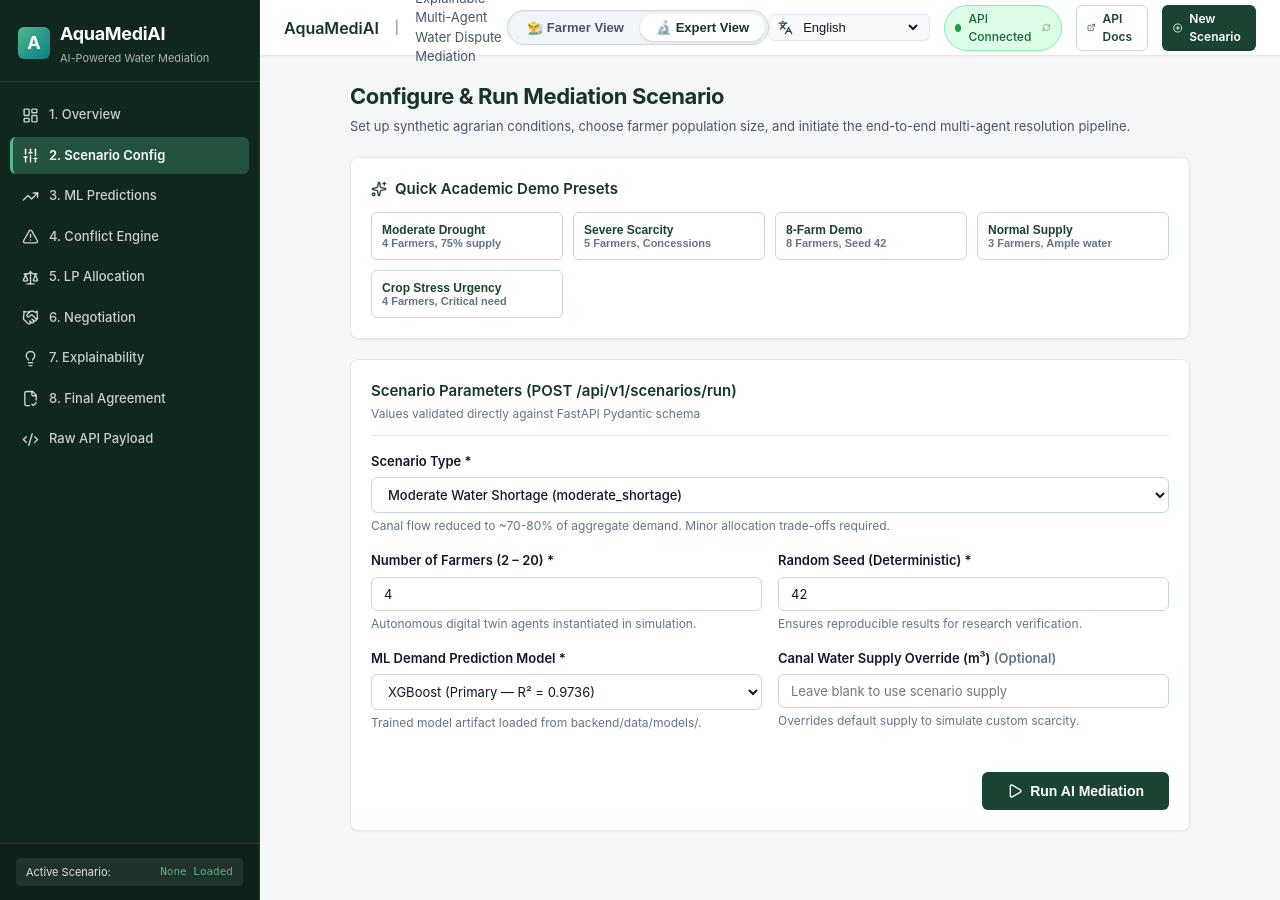
Test: AquaMediAI Frontend Application Flow › submits scenario form and populates dashboard state
Click the button "Run AI Mediation". click: coordinates (1076, 791)
box: [982, 772, 1169, 810]
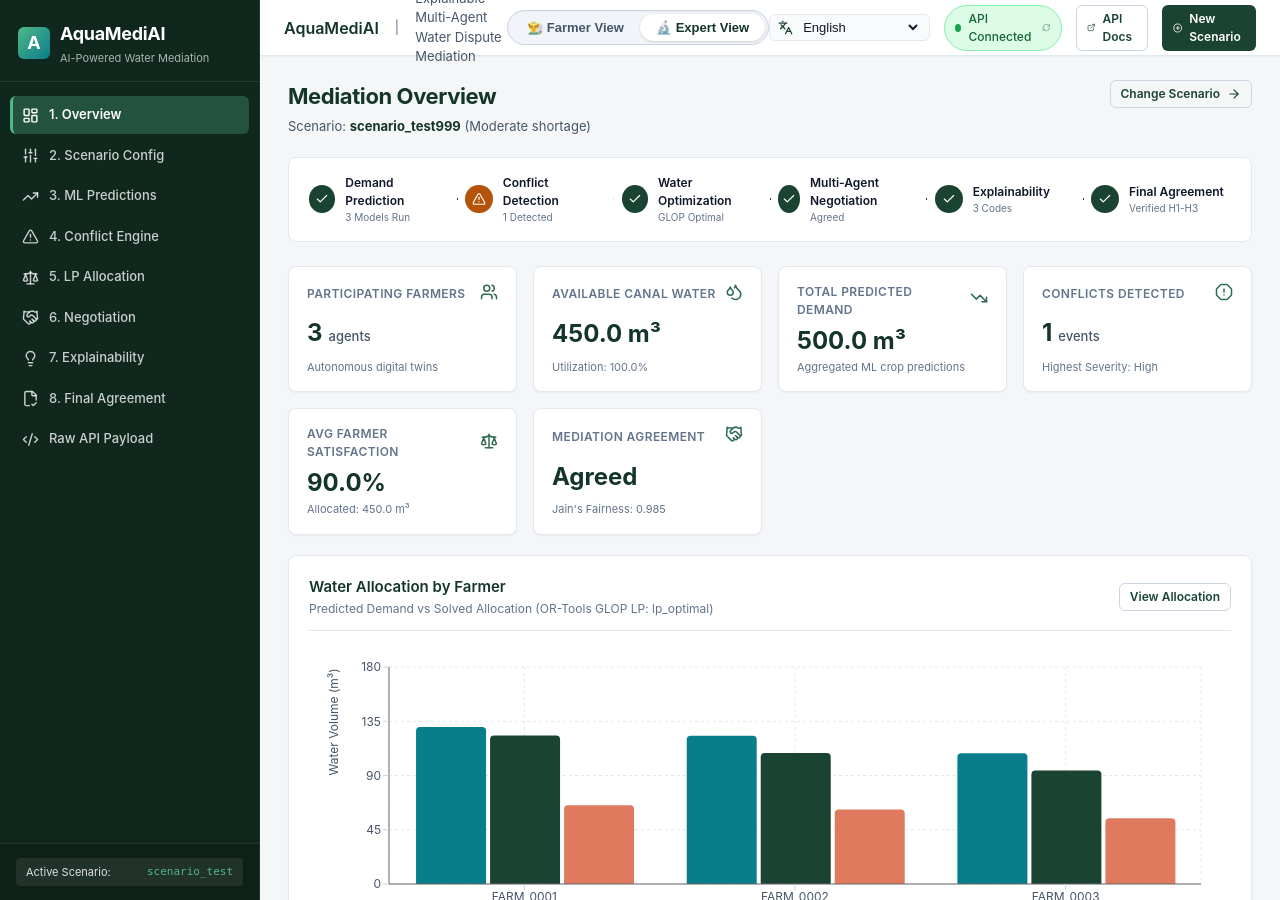
Expected: the text "scenario_test999" is shown, [350, 118, 461, 134]
Expected: the text "Participating Farmers" is shown, [307, 285, 466, 303]
Expected: the text "Total Predicted Demand" is shown, [797, 284, 912, 316]
